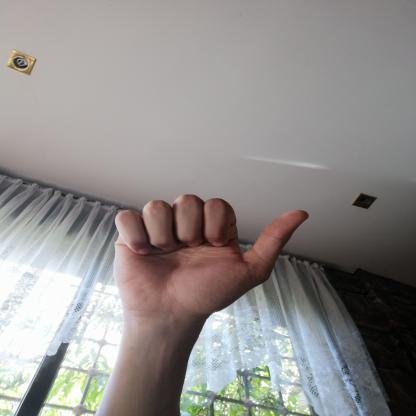DAD: (101, 184, 322, 333)
